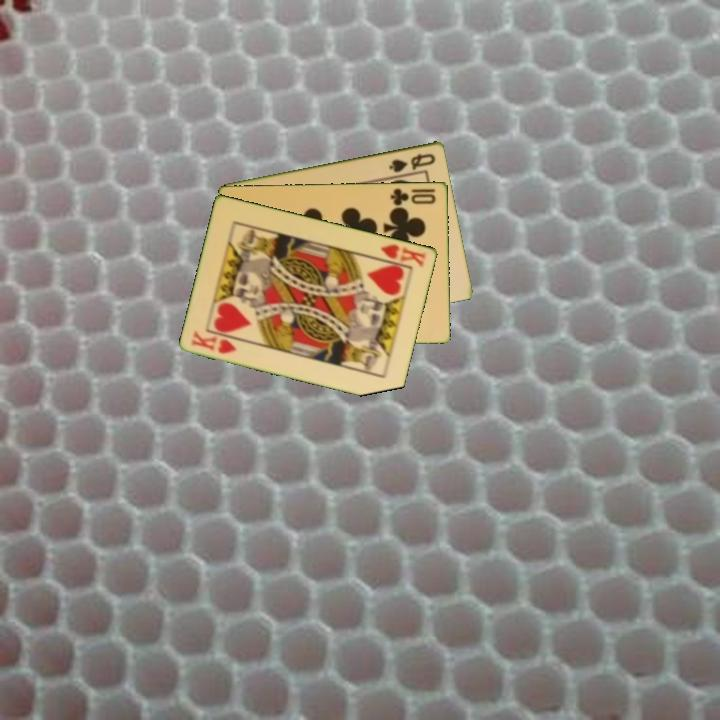10c: (388, 185, 439, 208)
Kh: (372, 240, 429, 270), (187, 327, 239, 356)
Qs: (386, 150, 439, 175)
